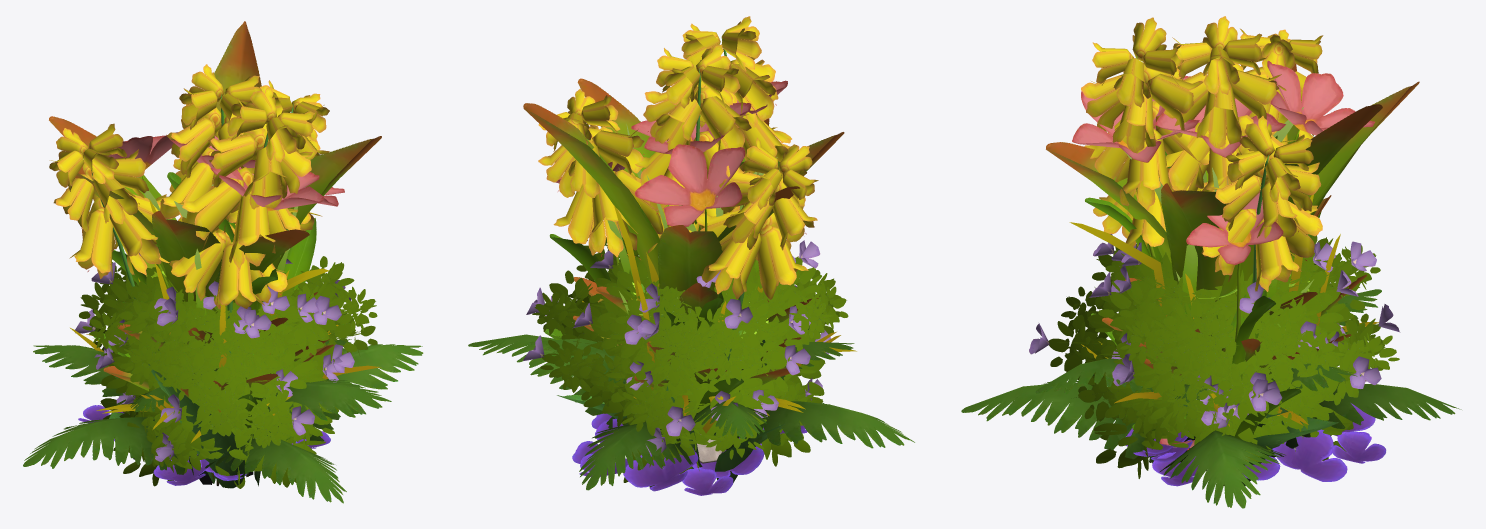
The model's file is MegaKit_Plants.glb.
3 renders of one model, left to right at view 1: azimuth 30°, elevation 25°; view 2: azimuth 150°, elevation 25°; view 3: azimuth 270°, elevation 25°, orthographic. The views are drawn at different scales.
Parts seen in each view (by area): view 1: Bush_Common_Flowers, Flower_4_Group, Fern_1, Plant_1_Big, Flower_4_Single, Flower_3_Group, Grass_Wispy_Tall, Plant_7_Big, Grass_Common_Tall, Plant_1, Flower_3_Single; view 2: Bush_Common_Flowers, Flower_4_Group, Fern_1, Plant_1_Big, Flower_4_Single, Flower_3_Group, Plant_7_Big, Grass_Wispy_Tall, Flower_3_Single, Grass_Common_Tall; view 3: Bush_Common_Flowers, Flower_4_Group, Fern_1, Plant_1_Big, Flower_3_Group, Flower_4_Single, Plant_7_Big, Grass_Wispy_Tall, Flower_3_Single, Grass_Common_Tall, Plant_7.
Boxes of the visible parts, x1,y1,x2,y2 form: Bush_Common_Flowers: (75,253,377,488); Flower_4_Group: (49,80,329,488); Fern_1: (23,339,423,503); Plant_1_Big: (49,21,381,390); Flower_4_Single: (155,64,267,352); Flower_3_Group: (88,132,344,472); Grass_Wispy_Tall: (70,198,381,485); Plant_7_Big: (78,399,330,485); Grass_Common_Tall: (137,177,297,484); Plant_1: (103,344,333,397); Flower_3_Single: (166,134,255,371); Bush_Common_Flowers: (523,237,848,487); Flower_4_Group: (538,16,824,482); Fern_1: (468,332,914,490); Plant_1_Big: (523,78,844,399); Flower_4_Single: (635,44,765,343); Flower_3_Group: (544,80,787,412); Plant_7_Big: (572,418,807,495); Grass_Wispy_Tall: (582,194,856,433); Flower_3_Single: (631,102,763,346); Grass_Common_Tall: (607,124,777,296); Bush_Common_Flowers: (1029,234,1400,478); Flower_4_Group: (1081,17,1338,485); Fern_1: (961,289,1461,508); Plant_1_Big: (1046,64,1419,361); Flower_3_Group: (1072,60,1374,485); Flower_4_Single: (1164,16,1296,417); Plant_7_Big: (1126,403,1386,486); Grass_Wispy_Tall: (1069,194,1378,470); Flower_3_Single: (1155,76,1316,264); Grass_Common_Tall: (1124,107,1303,452); Plant_7: (1133,431,1280,480).
Bounding box in the file's own units: 2.83 × 2.66 × 2.65.
Materials: 5 (5 with a texture image).
